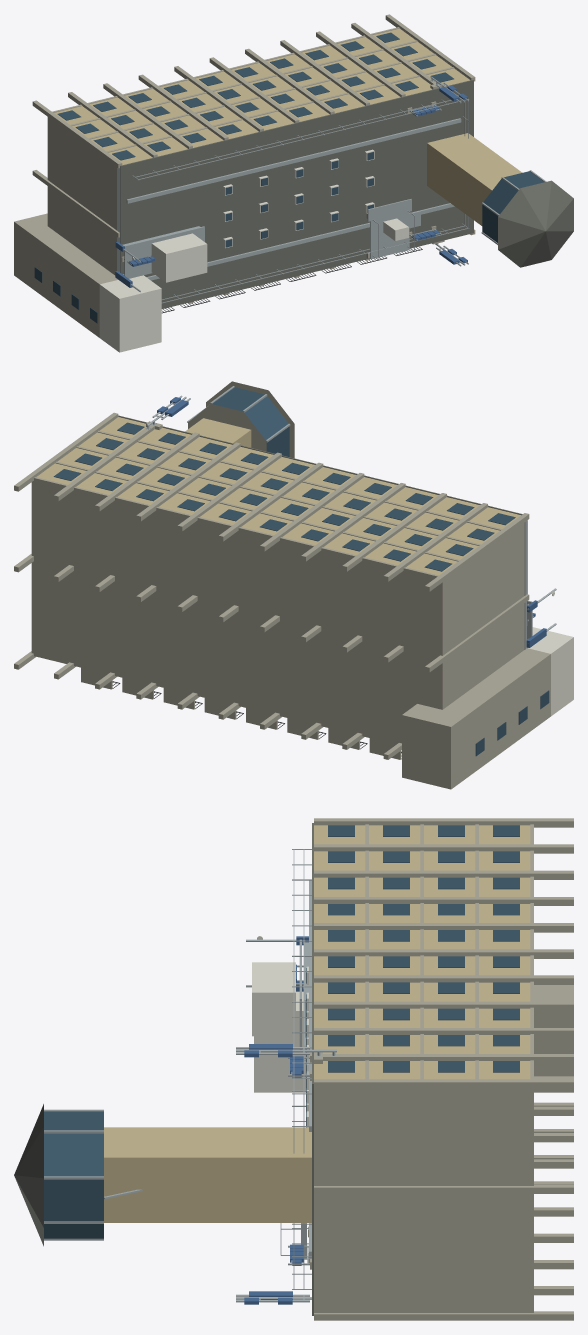
The model's file is 7149-Oasis-Hotel-Rev1.obj.
The picture shows the model from 3 angles, top to bottom: view 1: azimuth 30°, elevation 25°; view 2: azimuth 150°, elevation 25°; view 3: azimuth 270°, elevation 25°; orthographic projection. The views are drawn at different scales.
Parts seen in each view (by area): view 1: roof_deck, facade, end_facade, west_stair, windows, building_columns, tower_roof, tower_shaft, west_plant, hotel_floor_slabs, cable_trays, equipment_cabin (+11 smaller); view 2: hotel_floor_slabs, facade, building_columns, west_stair, end_facade, windows, balcony_slabs, roof_columns_encased, tower_glazing, west_plant, tower_floor, tower_shaft (+3 smaller); view 3: end_facade, facade, building_columns, tower_shaft, windows, tower_glazing, hotel_floor_slabs, roof_columns_encased, equipment_cabin, west_stair, west_plant, tower_roof (+6 smaller).
Part boxes in pixels (x1,y1,x2,y2): roof_deck: (120, 80, 473, 308); facade: (54, 28, 469, 165); end_facade: (47, 28, 470, 275); west_stair: (14, 213, 117, 337); windows: (57, 32, 453, 160); building_columns: (32, 14, 454, 222); tower_roof: (498, 180, 573, 267); tower_shaft: (427, 133, 522, 225); west_plant: (99, 275, 161, 352); hotel_floor_slabs: (47, 27, 453, 266); cable_trays: (126, 118, 461, 280); equipment_cabin: (151, 233, 207, 282); hotel_floor_slabs: (31, 430, 506, 744); facade: (36, 417, 520, 575); building_columns: (14, 429, 506, 769); west_stair: (402, 648, 550, 789); end_facade: (31, 416, 524, 709); windows: (53, 422, 515, 571); balcony_slabs: (81, 667, 401, 759); roof_columns_encased: (91, 412, 529, 615); tower_glazing: (212, 387, 289, 456); west_plant: (528, 627, 573, 716); tower_floor: (188, 404, 266, 451); tower_shaft: (185, 418, 251, 447); end_facade: (314, 824, 533, 1312); facade: (314, 825, 530, 1079); building_columns: (374, 818, 573, 1320); tower_shaft: (104, 1127, 311, 1222); windows: (328, 825, 519, 1072); tower_glazing: (44, 1111, 103, 1238); hotel_floor_slabs: (365, 824, 533, 1312); roof_columns_encased: (314, 818, 373, 1320); equipment_cabin: (252, 962, 295, 1036); west_stair: (534, 985, 573, 1092); west_plant: (254, 980, 305, 1092); tower_roof: (14, 1104, 43, 1246).
Bounding box in the file's own units: 33766 × 14540 × 28000.
